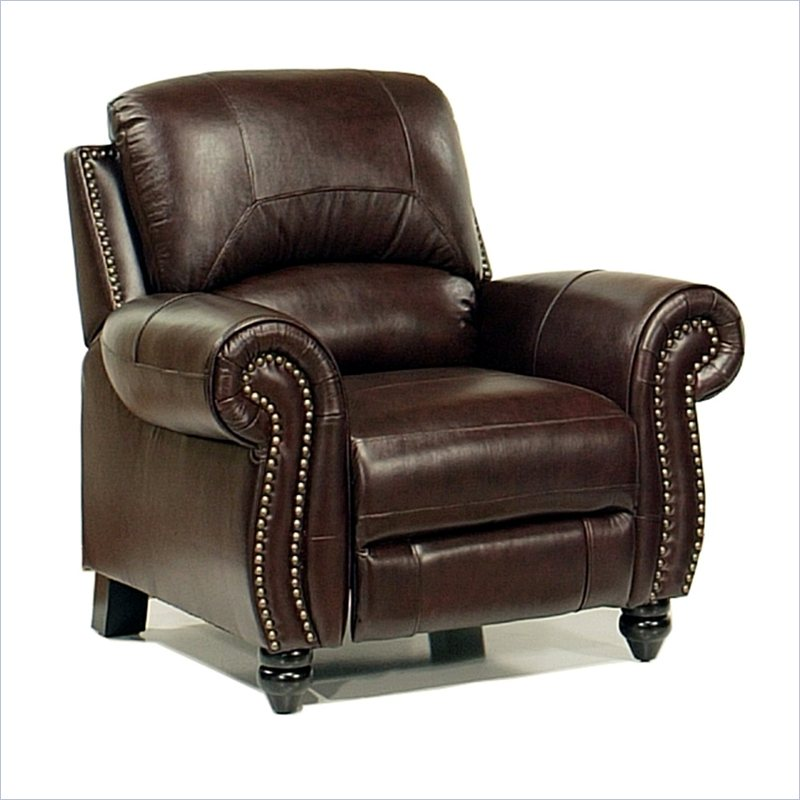chairs: (39, 53, 752, 735)
